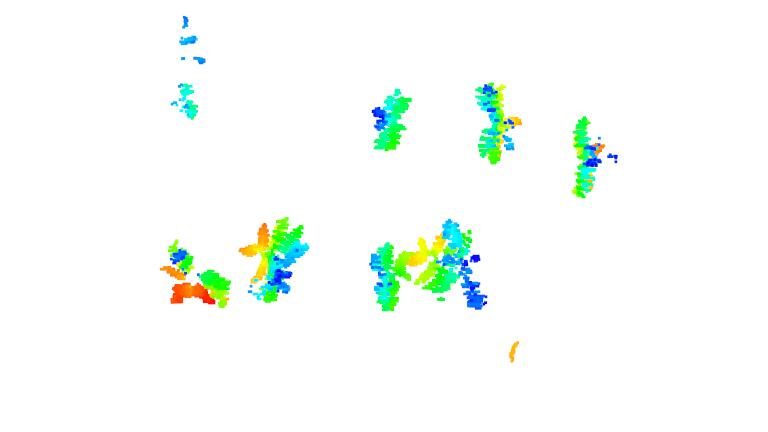chickpea: (408, 220, 490, 311), (237, 215, 309, 304), (157, 243, 232, 309), (472, 79, 524, 165), (568, 115, 606, 200), (368, 240, 412, 312), (370, 86, 408, 152), (170, 81, 201, 121)
